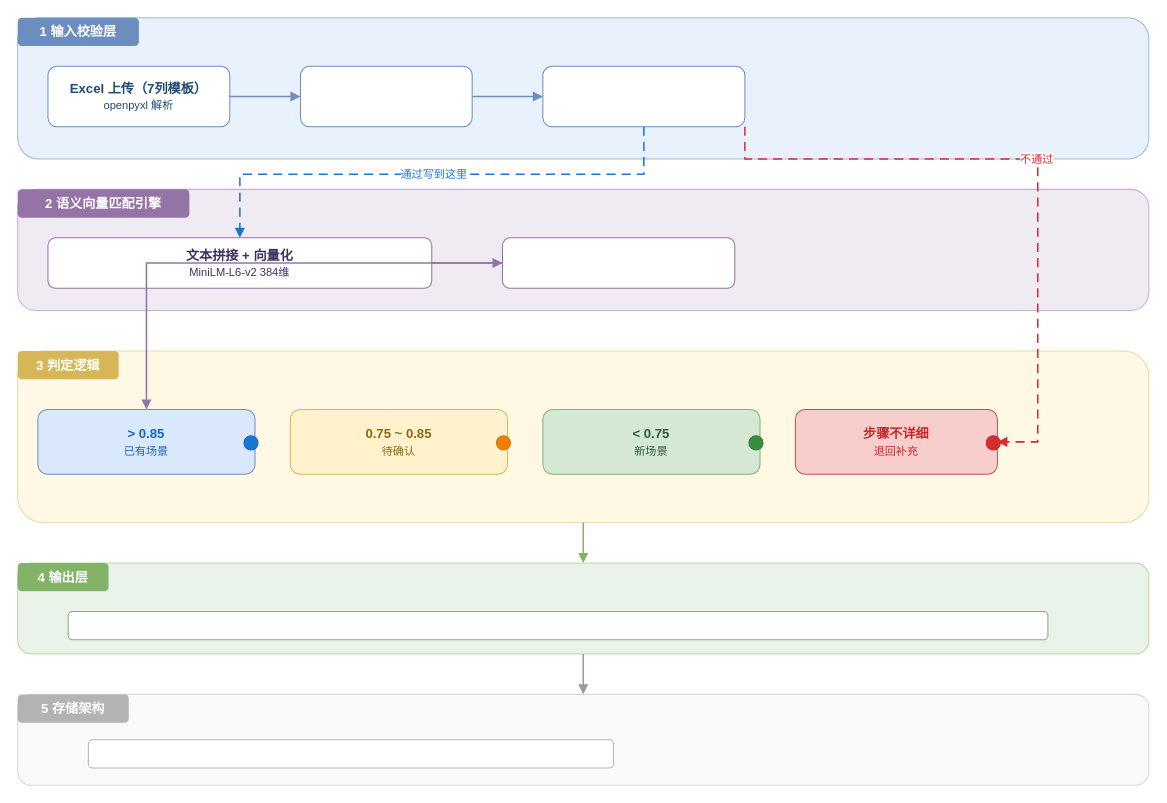
Some shapes in this 1167 by 803 pixel diagram are drawn without their labels. Each missing label, with the centre of its shape:
"Excel 输出：7列原始 + 7列扩展，蓝/黄/绿/红 四色标注" goes at point (557, 625).
"pgvector 余弦检索 Top-1" goes at point (618, 262).
"Supabase PostgreSQL + pgvector（ivfflat 索引，业务与向量统一存储）" goes at point (350, 753).
"模板校验 列完整 + 字段必填" goes at point (385, 96).
"步骤详细度检查 正则检测分步编号" goes at point (643, 96).
